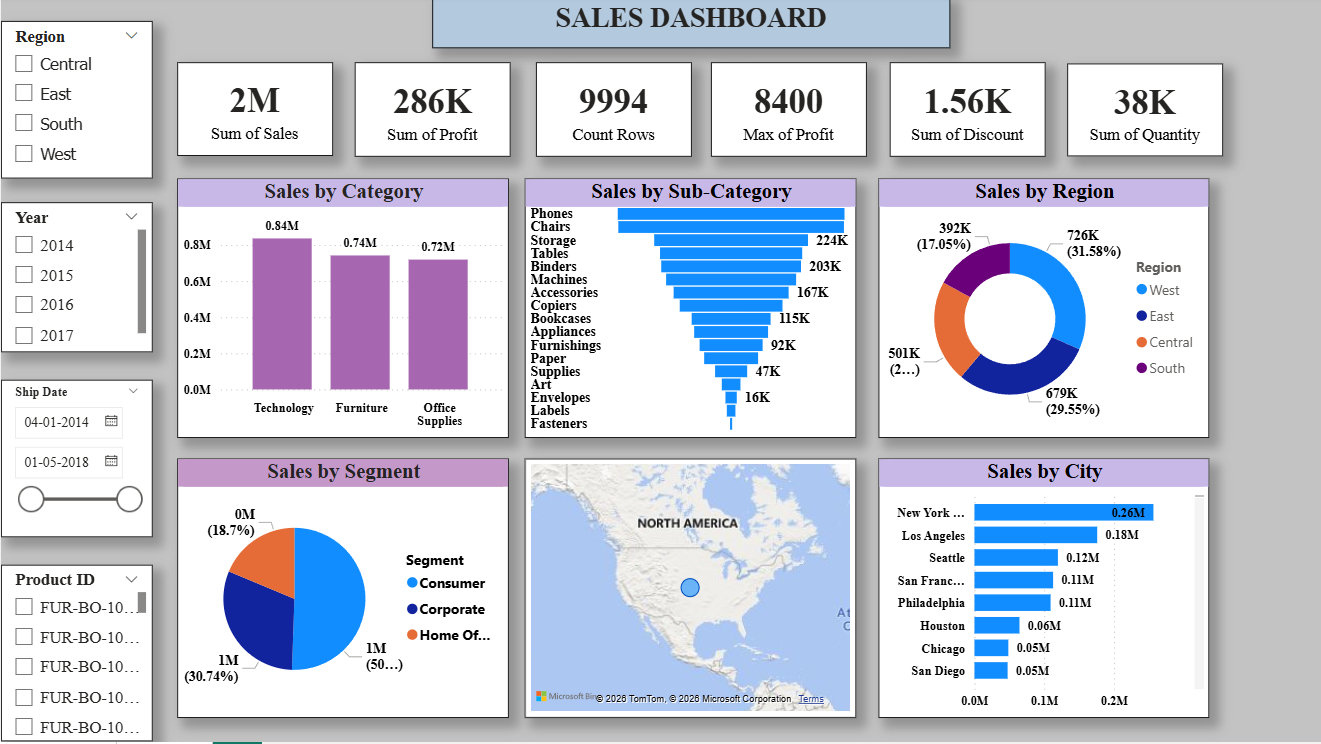

The dashboard page shown, as its layout file describes it:
{"tool":"powerbi","page":{"name":"Sales Dashboard","canvas":[1280,720],"ordinal":0},"visuals":[{"type":"columnChart","title":" Sales by Category","fields":{"Category":["Sample_data.Category"],"Y":["Sum(Sample_data.Sales)"]},"box":[170,176,320,250],"z":0},{"type":"card","fields":{"Values":["Sum(Sample_data.Sales)"]},"box":[170,64,150,90],"z":1000},{"type":"textbox","box":[416,0,500,50],"z":2000},{"type":"card","fields":{"Values":["Table.Count Rows"]},"box":[516.1,63.6,150.4,91.1],"z":3000},{"type":"card","fields":{"Values":["Sum(Sample_data.Profit)"]},"box":[341.2,63.6,150.4,91.1],"z":4000},{"type":"card","fields":{"Values":["Max(Sample_data.Profit)"]},"box":[685.3,63.6,150.4,91.1],"z":5000},{"type":"slicer","fields":{"Values":["Sample_data.Region"]},"box":[0,24.6,146,151.8],"z":6000},{"type":"slicer","fields":{"Values":["Sample_data.Order Date.Variation.Date Hierarchy.Year"]},"box":[0,199.5,146,144.6],"z":7000},{"type":"slicer","fields":{"Values":["Sample_data.Product ID"]},"box":[0,549.4,146,170.6],"z":8000},{"type":"card","fields":{"Values":["Sum(Sample_data.Discount)"]},"box":[857.3,63.6,150.4,91.1],"z":9000},{"type":"funnel","title":" Sales by Sub-Category","fields":{"Y":["Sum(Sample_data.Sales)"],"Category":["Sample_data.Sub-Category"]},"box":[506,176.4,320,250.1],"z":10000},{"type":"donutChart","title":" Sales by Region","fields":{"Category":["Sample_data.Region"],"Y":["Sum(Sample_data.Sales)"]},"box":[847.2,176.4,319.5,250.1],"z":11000},{"type":"slicer","fields":{"Values":["Sample_data.Ship Date"]},"box":[0,370.1,146,151.8],"z":12000},{"type":"pieChart","title":" Sales by Segment","fields":{"Category":["Sample_data.Segment"],"Y":["Sum(Sample_data.Sales)"]},"box":[170.6,446.7,320,250.1],"z":13000},{"type":"card","fields":{"Values":["Sum(Sample_data.Quantity)"]},"box":[1029.4,65.1,150.4,89.6],"z":14000},{"type":"map","fields":{"Category":["Sample_data.Country"],"Size":["Sum(Sample_data.Sales)"]},"box":[506,446.7,320,250.1],"z":15000},{"type":"barChart","title":" Sales by City","fields":{"Y":["Sum(Sample_data.Sales)"],"Category":["Sample_data.City"]},"box":[847.2,446.7,319.5,250.1],"z":16000}]}

Visuals, with their boxes in screenshot pixels (x1, y1, x2, y2), scaled from the page's 1280x720 canvas onto the 1321x744 screenshot:
" Sales by Category" columnChart: (left=175, top=182, right=506, bottom=440)
card - Sum(Sample_data.Sales): (left=175, top=66, right=330, bottom=159)
textbox: (left=429, top=0, right=945, bottom=52)
card - Table.Count Rows: (left=533, top=66, right=688, bottom=160)
card - Sum(Sample_data.Profit): (left=352, top=66, right=507, bottom=160)
card - Max(Sample_data.Profit): (left=707, top=66, right=862, bottom=160)
slicer - Sample_data.Region: (left=0, top=25, right=151, bottom=182)
slicer - Sample_data.Order Date.Variation.Date Hierarchy.Year: (left=0, top=206, right=151, bottom=356)
slicer - Sample_data.Product ID: (left=0, top=568, right=151, bottom=743)
card - Sum(Sample_data.Discount): (left=885, top=66, right=1040, bottom=160)
" Sales by Sub-Category" funnel: (left=522, top=182, right=852, bottom=441)
" Sales by Region" donutChart: (left=874, top=182, right=1204, bottom=441)
slicer - Sample_data.Ship Date: (left=0, top=382, right=151, bottom=539)
" Sales by Segment" pieChart: (left=176, top=462, right=506, bottom=720)
card - Sum(Sample_data.Quantity): (left=1062, top=67, right=1218, bottom=160)
map - Sample_data.Country x Sum(Sample_data.Sales): (left=522, top=462, right=852, bottom=720)
" Sales by City" barChart: (left=874, top=462, right=1204, bottom=720)
